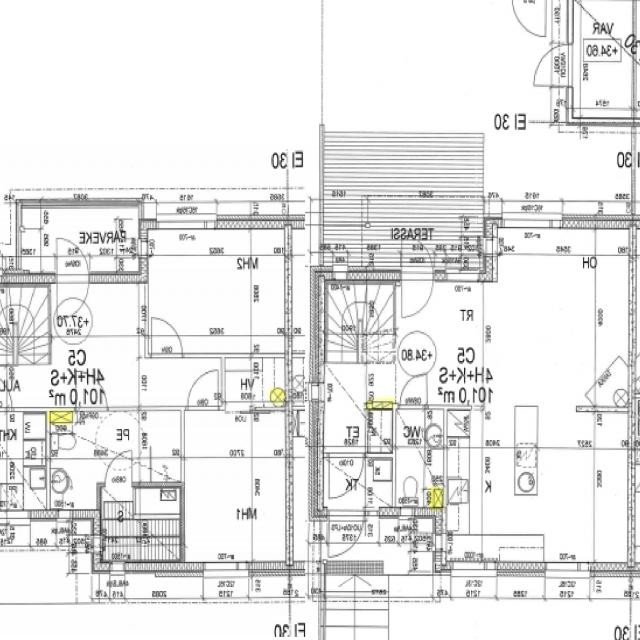door: (330, 507, 364, 562), (534, 46, 574, 87), (402, 266, 433, 318), (402, 229, 433, 281), (330, 453, 364, 499), (58, 270, 88, 320), (58, 233, 88, 283), (76, 369, 107, 411), (188, 370, 218, 411), (152, 318, 182, 358), (401, 374, 428, 409), (106, 452, 132, 488), (0, 370, 12, 411)
